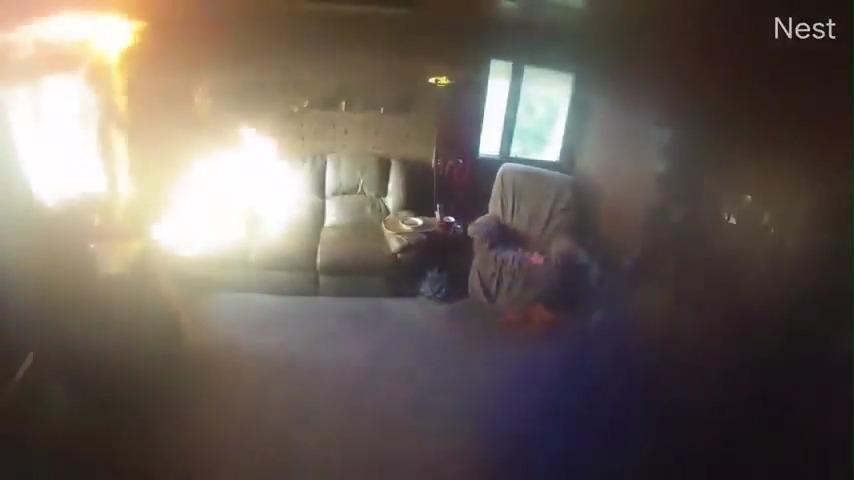fire: (0, 1, 151, 64)
